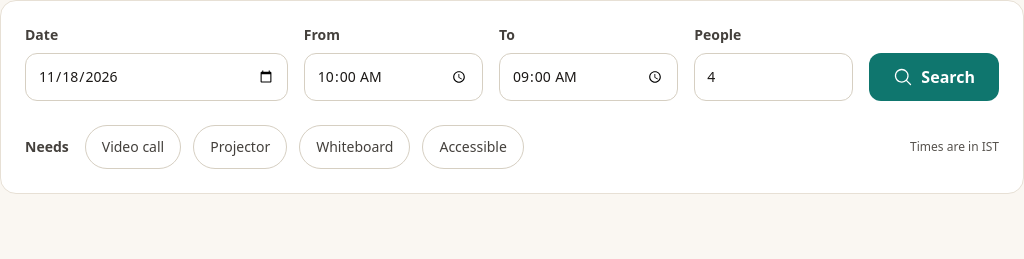
SearchForm › refuses an end time before the start and says why
The width and height of the screenshot is (1024, 259).
What coordinates should you click on to do the following:
click the button "Search"
I would click on:
 (934, 77)
Its box is [869,53,999,101].
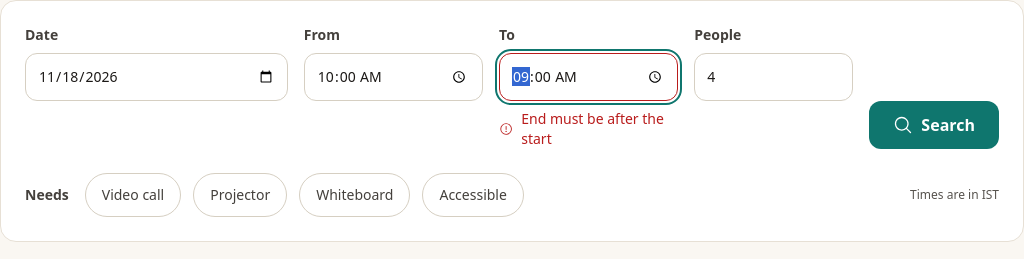
expect the text "End must be after the start" is shown: met, box [499,109,678,149]
